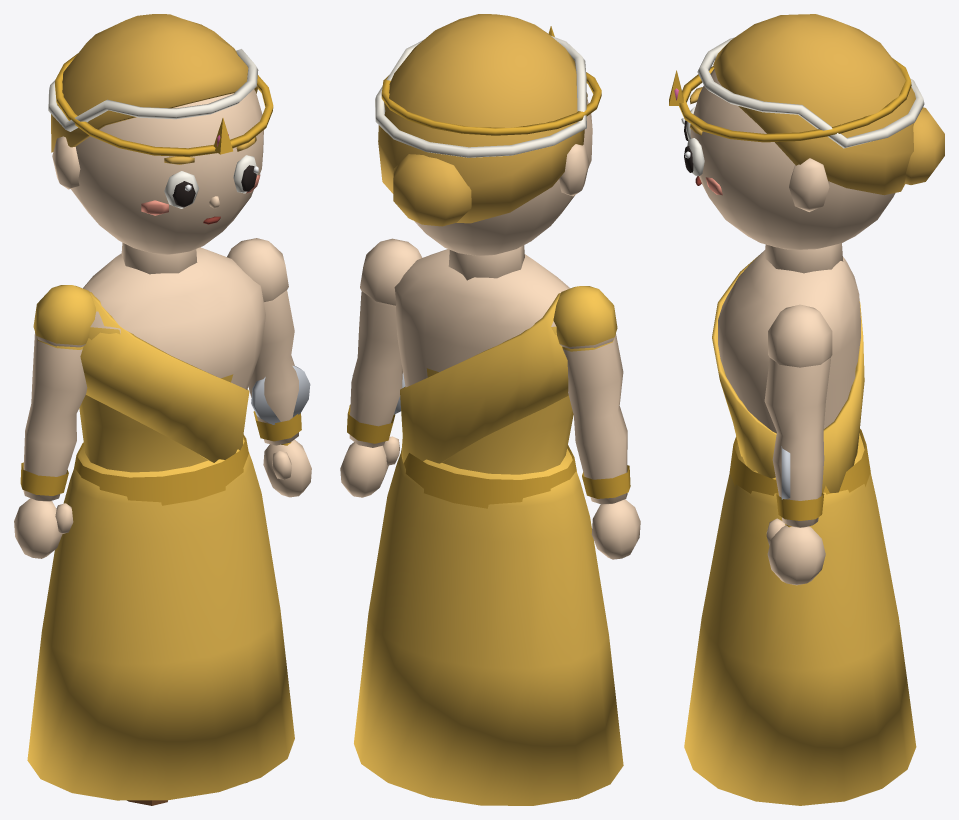
The model's file is helena.glb.
The picture shows the model from 3 angles, left to right: view 1: azimuth 30°, elevation 25°; view 2: azimuth 150°, elevation 25°; view 3: azimuth 270°, elevation 25°; orthographic projection.
Visible parts, largest first — view 1: huefte, rumpf, kopf, haare, armL, armR, kopfschmuck, itemR, augeL, augeR; view 2: huefte, rumpf, haare, armL, armR, kopf, kopfschmuck; view 3: huefte, haare, rumpf, kopf, armR, kopfschmuck, augeR, itemR.
Part boxes in pixels (<box>): huefte: <box>27,437,294,800</box>; rumpf: <box>74,247,265,505</box>; kopf: <box>52,89,263,274</box>; haare: <box>48,14,258,152</box>; armL: <box>14,285,95,558</box>; armR: <box>227,238,311,497</box>; kopfschmuck: <box>55,53,273,156</box>; itemR: <box>251,365,310,445</box>; augeL: <box>164,171,199,208</box>; augeR: <box>233,155,258,193</box>; huefte: <box>354,448,623,805</box>; rumpf: <box>394,249,576,508</box>; haare: <box>375,14,587,226</box>; armL: <box>553,286,640,559</box>; armR: <box>340,238,422,497</box>; kopf: <box>414,99,592,280</box>; kopfschmuck: <box>381,26,601,135</box>; huefte: <box>684,433,916,805</box>; haare: <box>697,14,944,195</box>; rumpf: <box>712,250,870,495</box>; kopf: <box>690,69,895,273</box>; armR: <box>764,304,832,585</box>; kopfschmuck: <box>669,58,911,142</box>; augeR: <box>684,138,704,176</box>; itemR: <box>781,446,791,527</box>.
Size of the model in its own units: 0.9329 by 2.29 by 0.7725.
